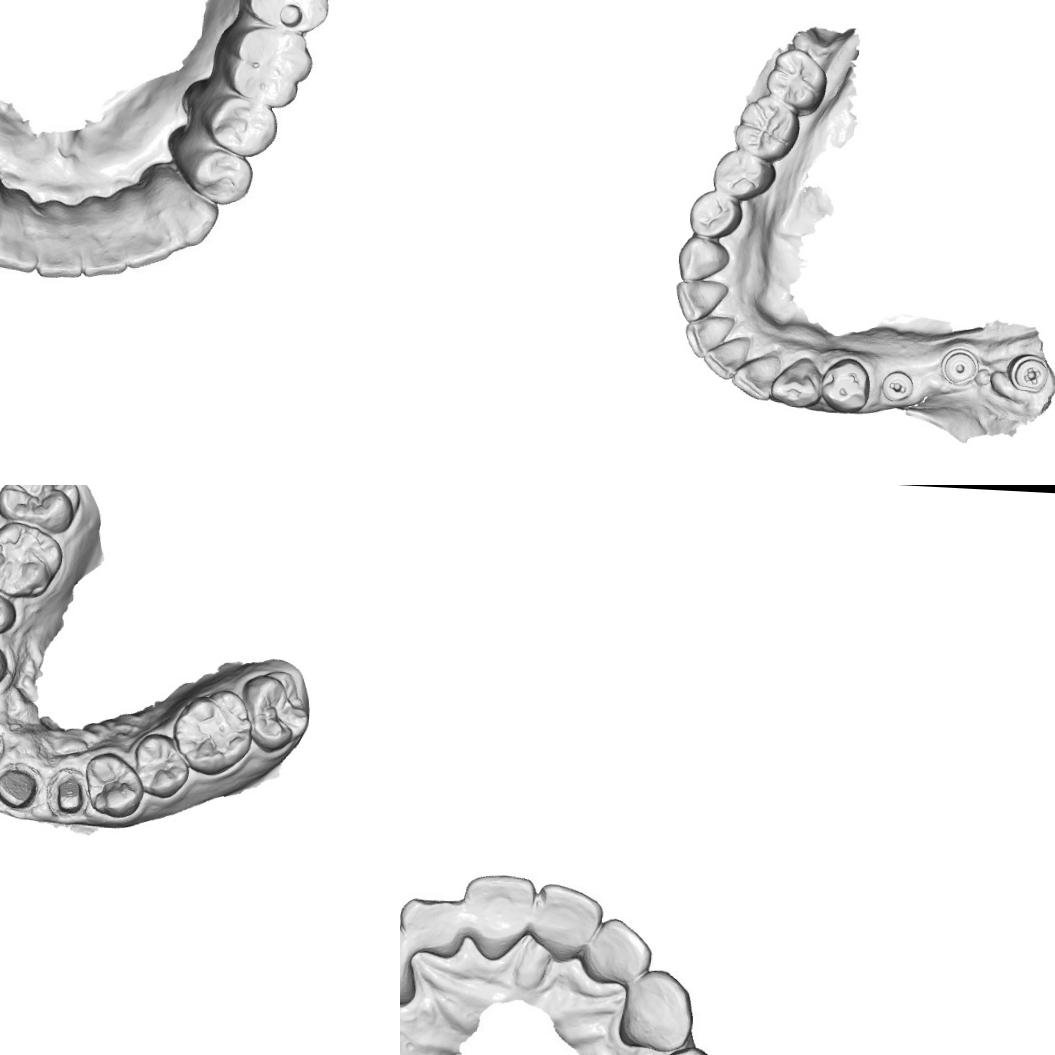canine: (614, 968, 696, 1053), (145, 166, 216, 251), (768, 355, 824, 410), (676, 234, 731, 284), (400, 917, 423, 1007)
crown: (43, 765, 92, 823), (0, 757, 45, 817)
implant: (938, 345, 980, 389)
implant_minus: (880, 368, 914, 402)
implant_plus: (1004, 350, 1050, 394)
incisor: (464, 868, 542, 953), (531, 879, 603, 962), (111, 183, 177, 267), (400, 888, 468, 966), (584, 912, 653, 984), (30, 200, 87, 282), (72, 198, 126, 278), (0, 183, 45, 276), (673, 278, 730, 324), (728, 352, 780, 402), (682, 312, 735, 361), (702, 334, 750, 382)
molar: (168, 685, 254, 778), (226, 24, 318, 106), (238, 666, 312, 756), (0, 519, 66, 600), (730, 92, 801, 162), (763, 46, 828, 117), (0, 485, 83, 534), (244, 0, 340, 39)
premolar: (169, 123, 253, 208), (194, 77, 278, 154), (81, 749, 147, 820), (130, 731, 191, 800), (710, 147, 778, 200), (819, 355, 872, 415), (685, 188, 744, 240), (634, 1040, 723, 1055), (0, 577, 18, 635)
